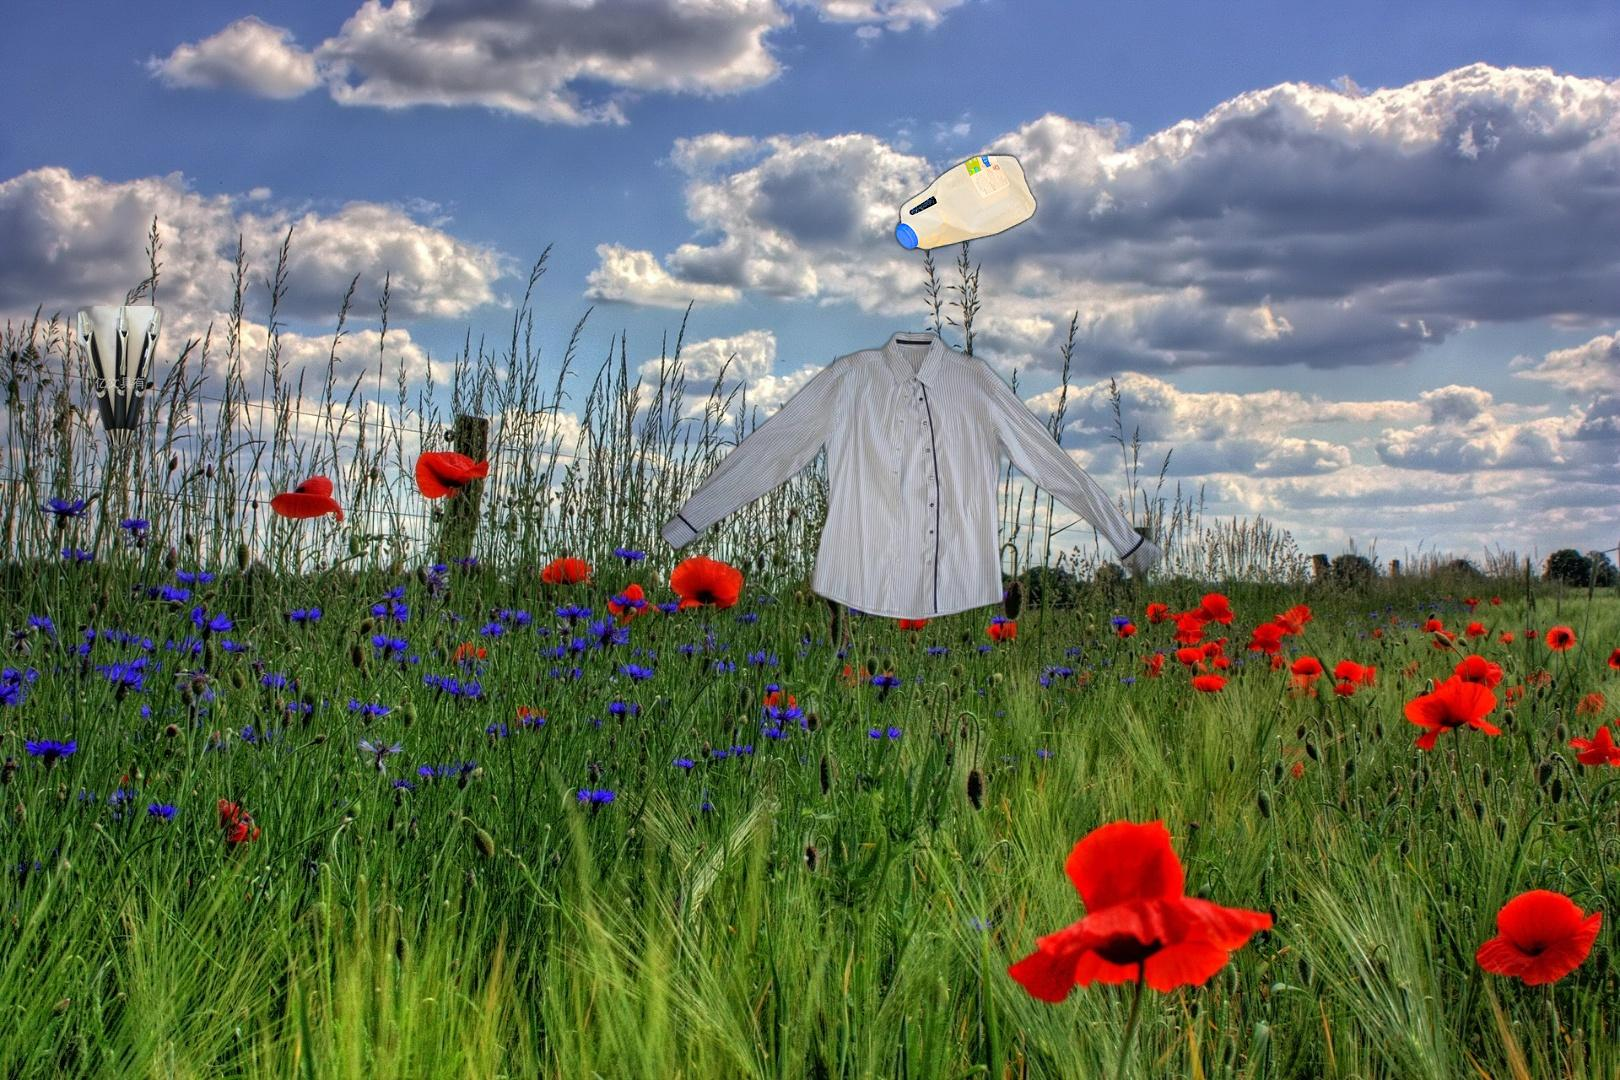clothes: (655, 329, 1173, 624)
penholder: (74, 306, 166, 453)
plastic-bottles: (891, 148, 1041, 256)
